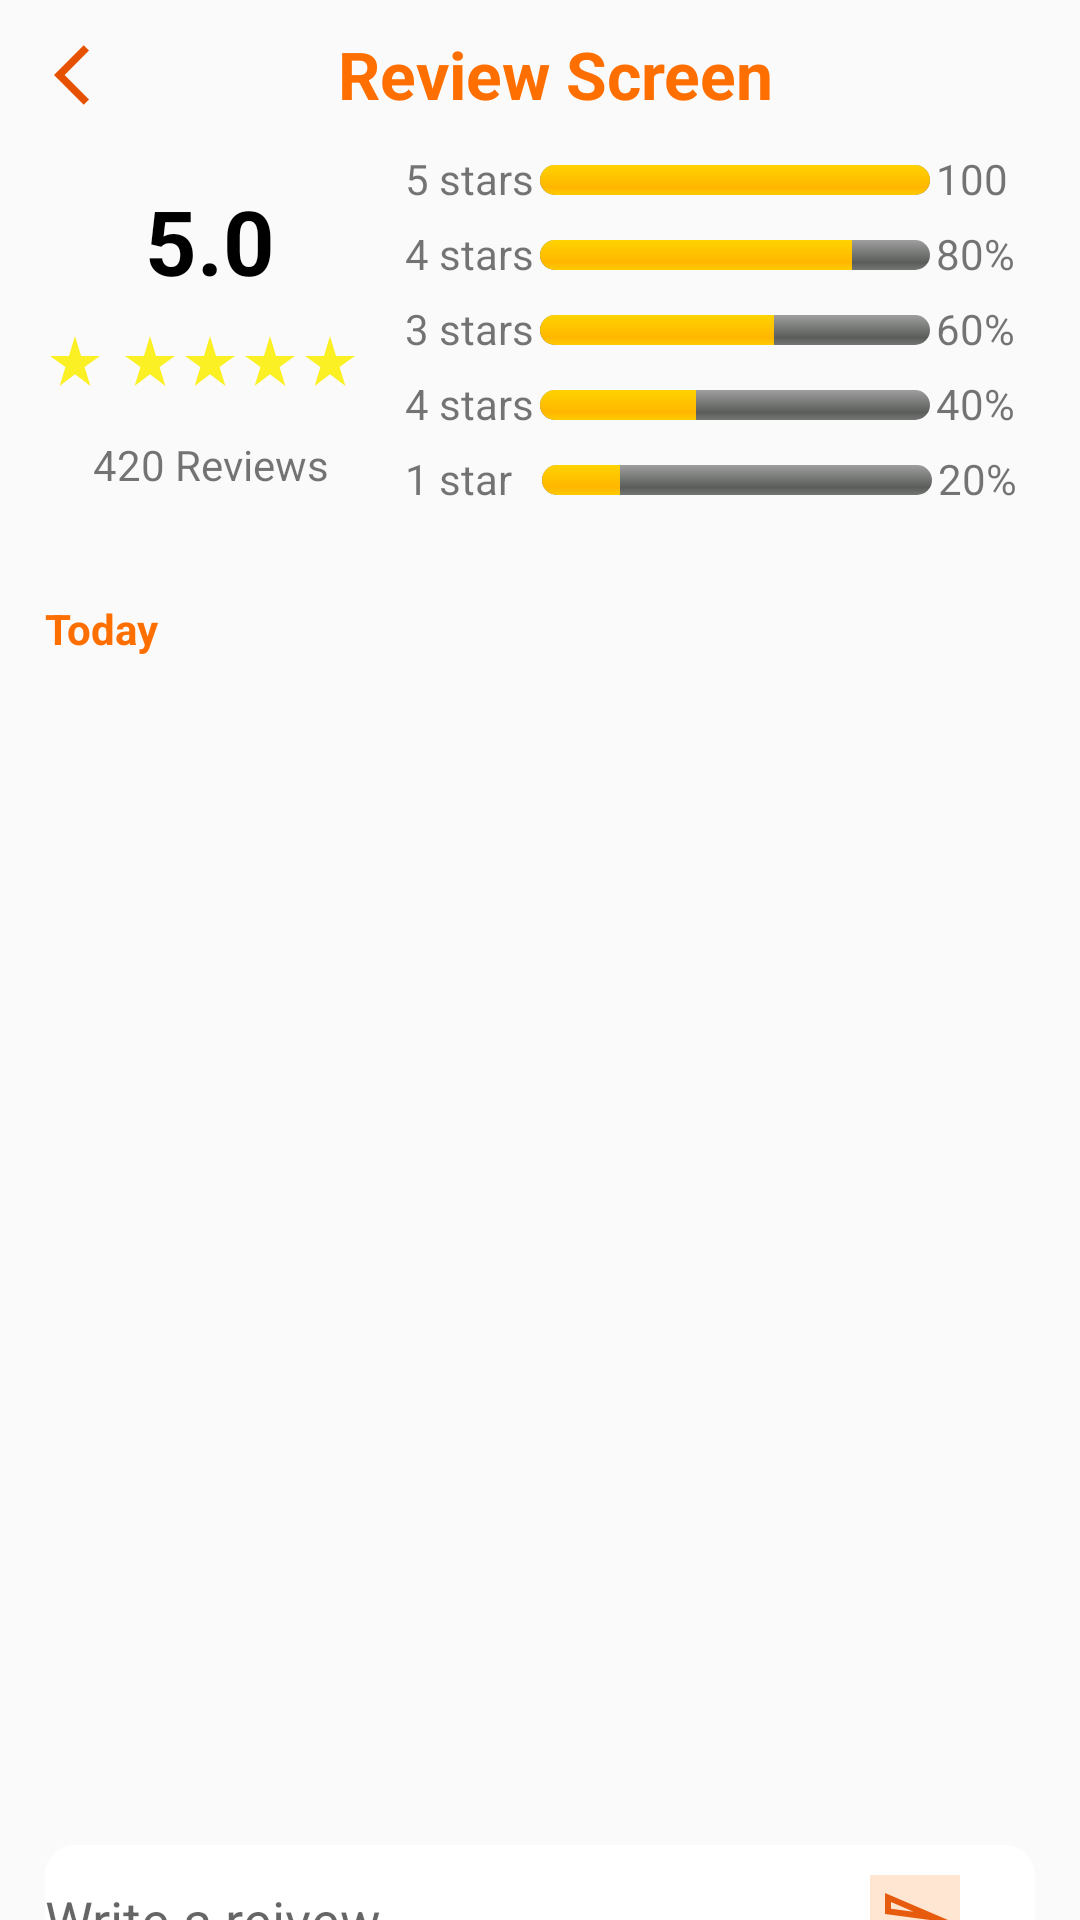

Where to tap for icons on this 1080px x 1920px app screen, as [x,y]:
arrow back: [71,75]
star rate: [75,361], [150,361], [210,361], [270,361], [330,361]
